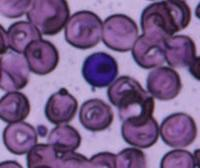L: (82, 50, 118, 87)
